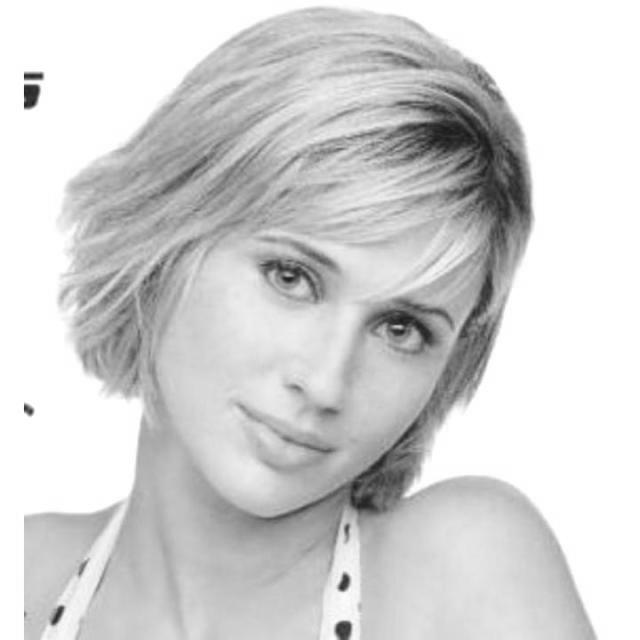real: (130, 143, 482, 525)
